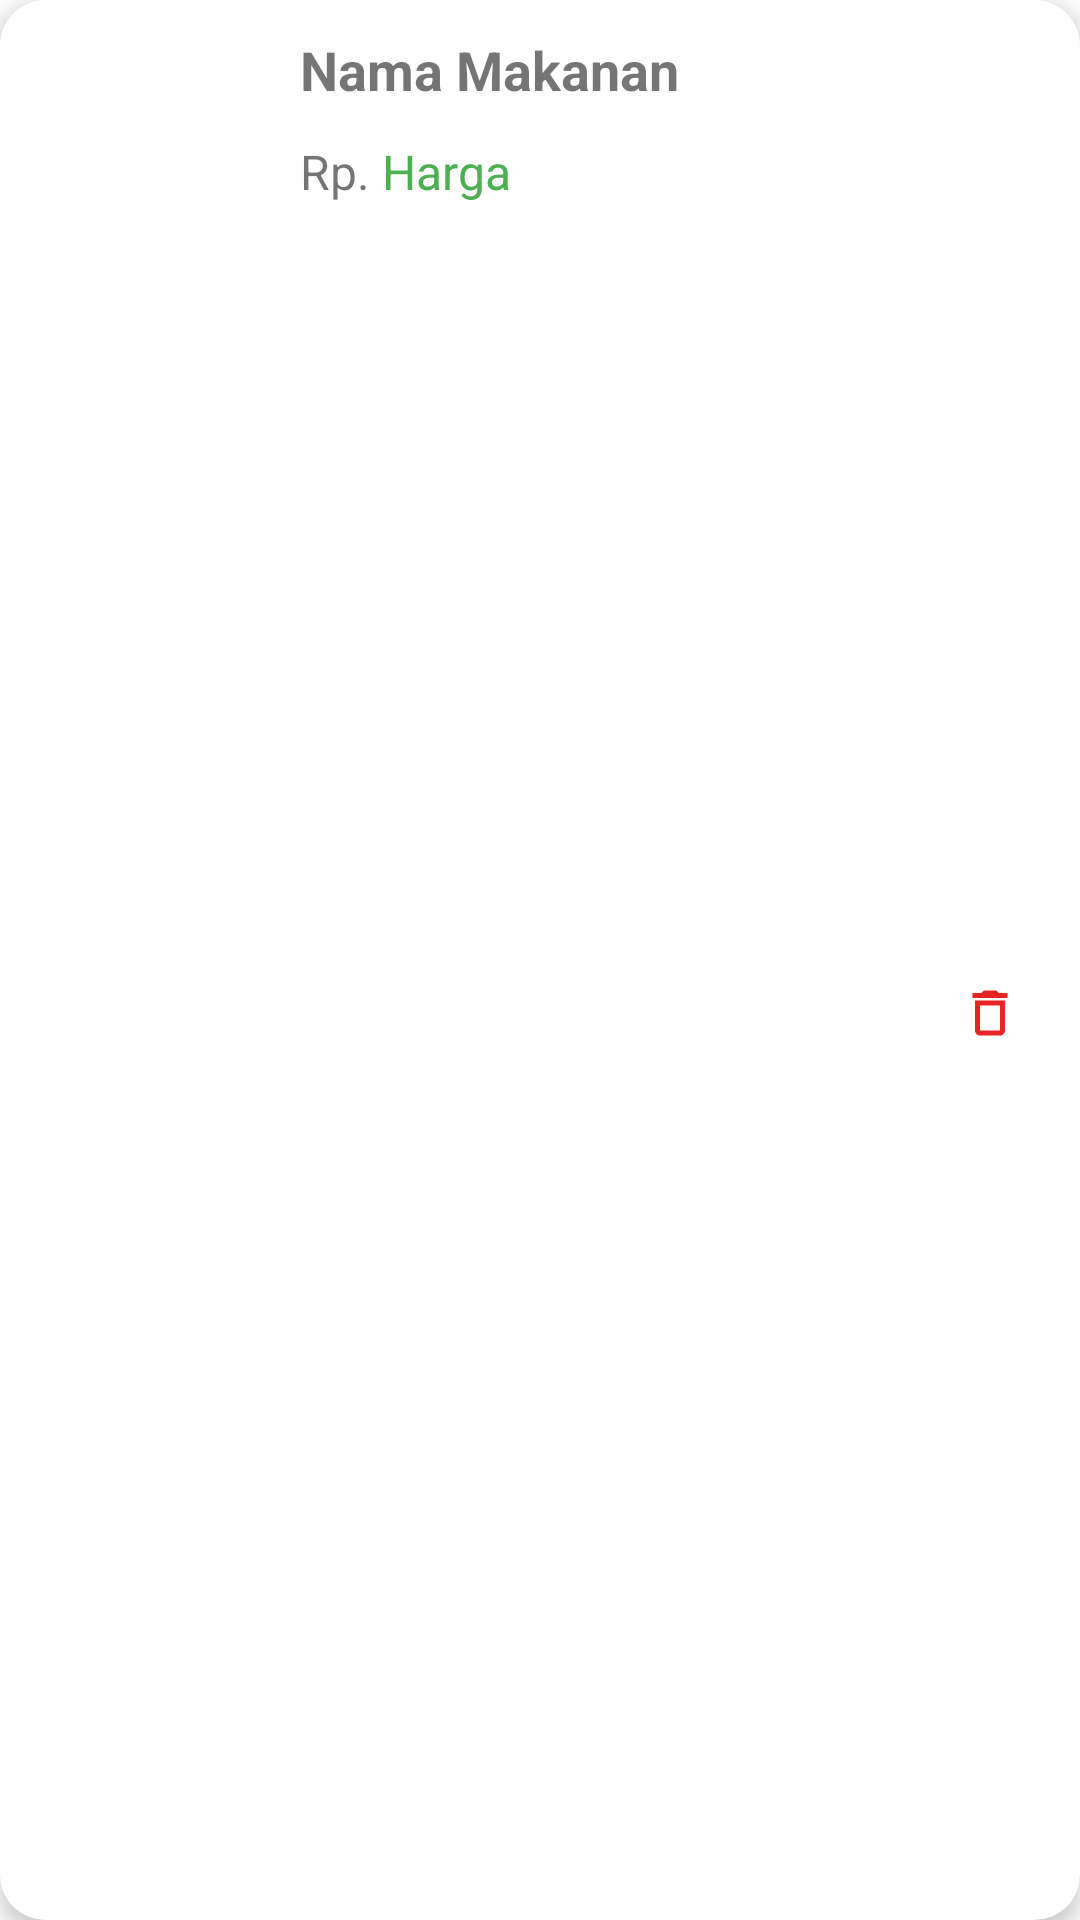

Icon bounding boxes for this 1080 x 1920 phone screenshot, format (x1, y1, x2, y2):
delete: (972, 990, 1008, 1036)
